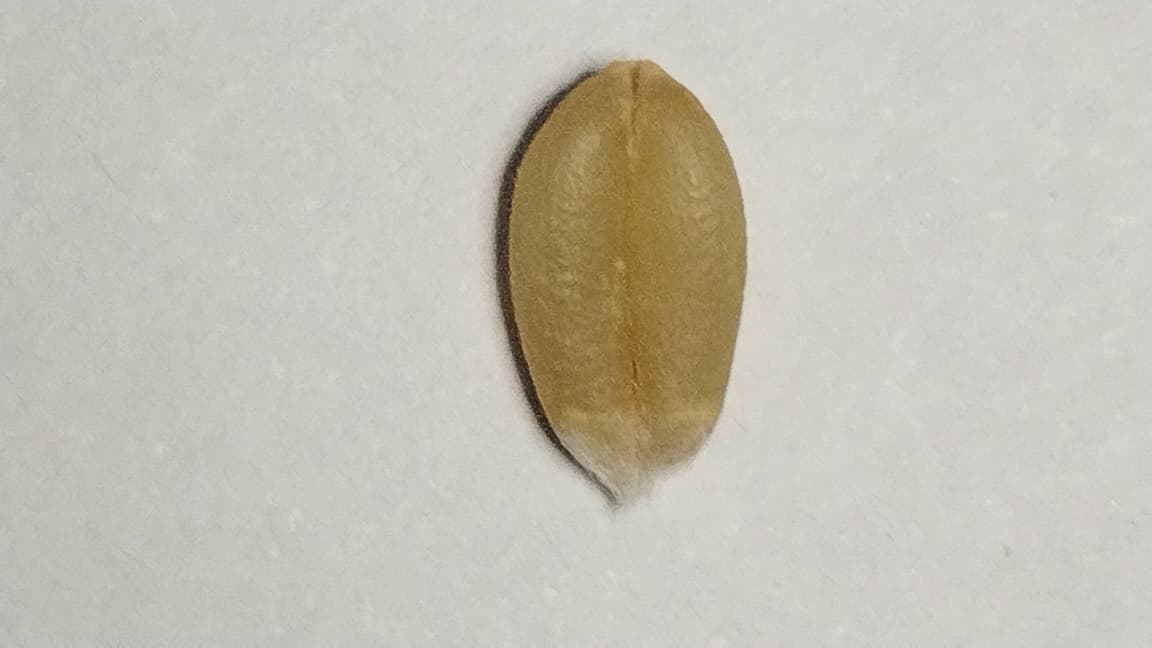healthy: (496, 60, 746, 499)
